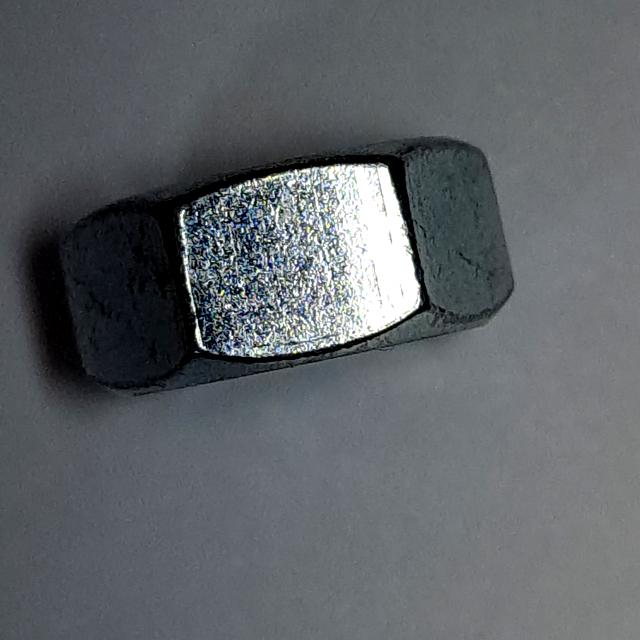Side_Excellent: (49, 124, 524, 412)
